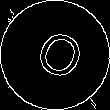O_SW: (24, 23, 86, 87)
